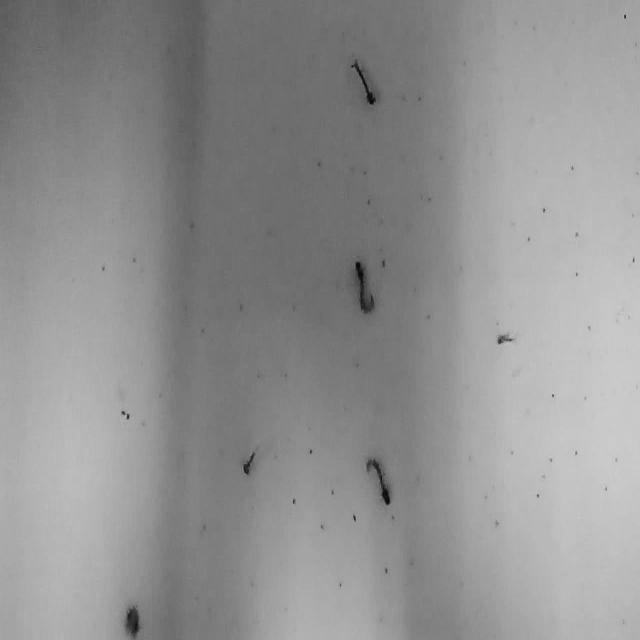larvas: (350, 57, 376, 106), (365, 457, 391, 505), (354, 260, 375, 312), (125, 604, 139, 636), (242, 447, 255, 473), (496, 332, 516, 344)
